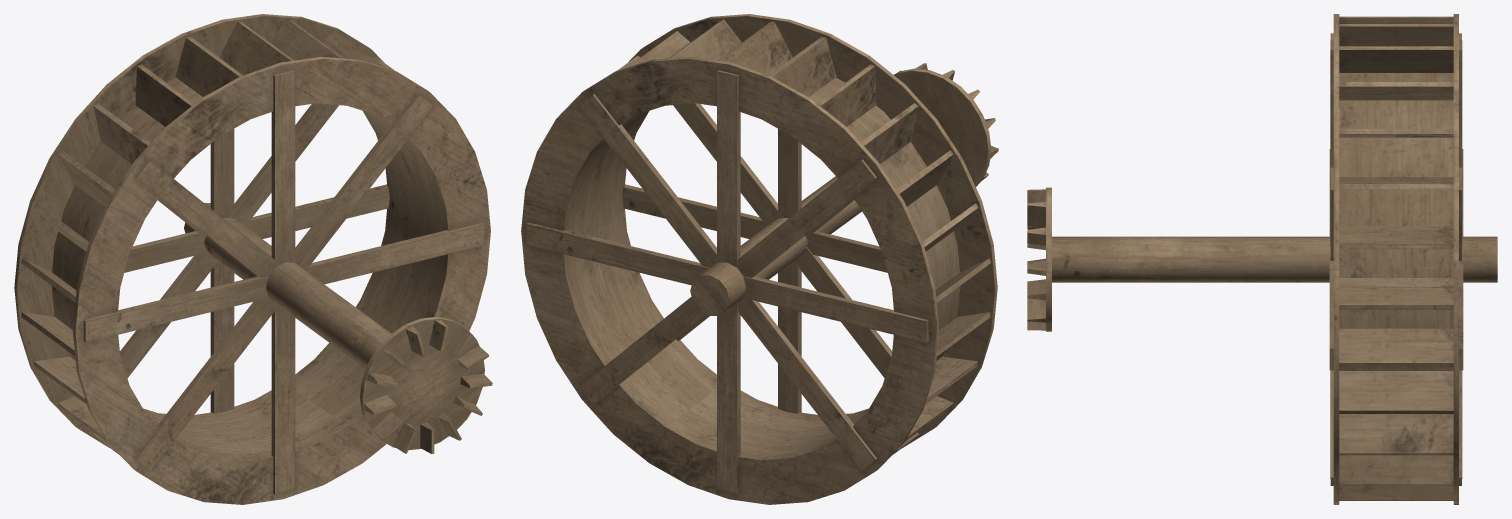
The picture shows the model from 3 angles, left to right: view 1: azimuth 30°, elevation 25°; view 2: azimuth 150°, elevation 25°; view 3: azimuth 270°, elevation 25°; orthographic projection. The views are drawn at different scales.
Visible parts, largest first — view 1: Water_Wheel_With_Cog; view 2: Water_Wheel_With_Cog; view 3: Water_Wheel_With_Cog.
Boxes of the visible parts, left/top/right/bottom form: Water_Wheel_With_Cog: left=14, top=14, right=492, bottom=504; Water_Wheel_With_Cog: left=521, top=14, right=998, bottom=504; Water_Wheel_With_Cog: left=1027, top=14, right=1497, bottom=504.
Size of the model in its own units: 6.79 by 6.79 by 6.5.
1 material, 1 textured.
